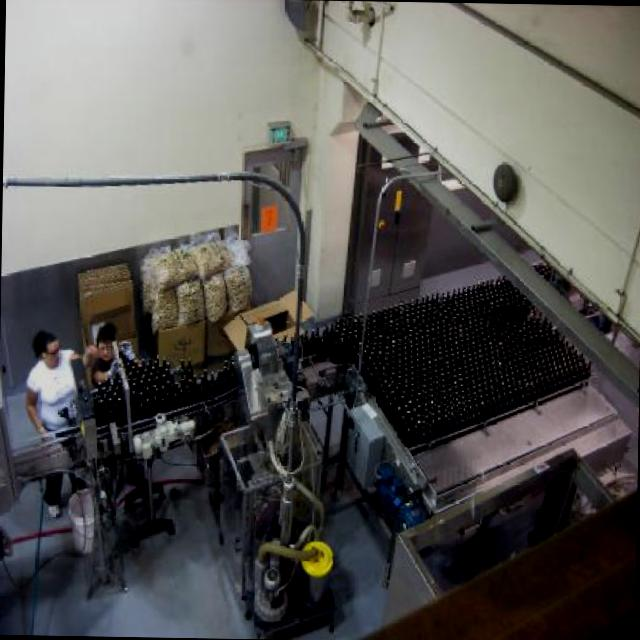Person: (17, 322, 86, 492), (88, 319, 146, 486)
